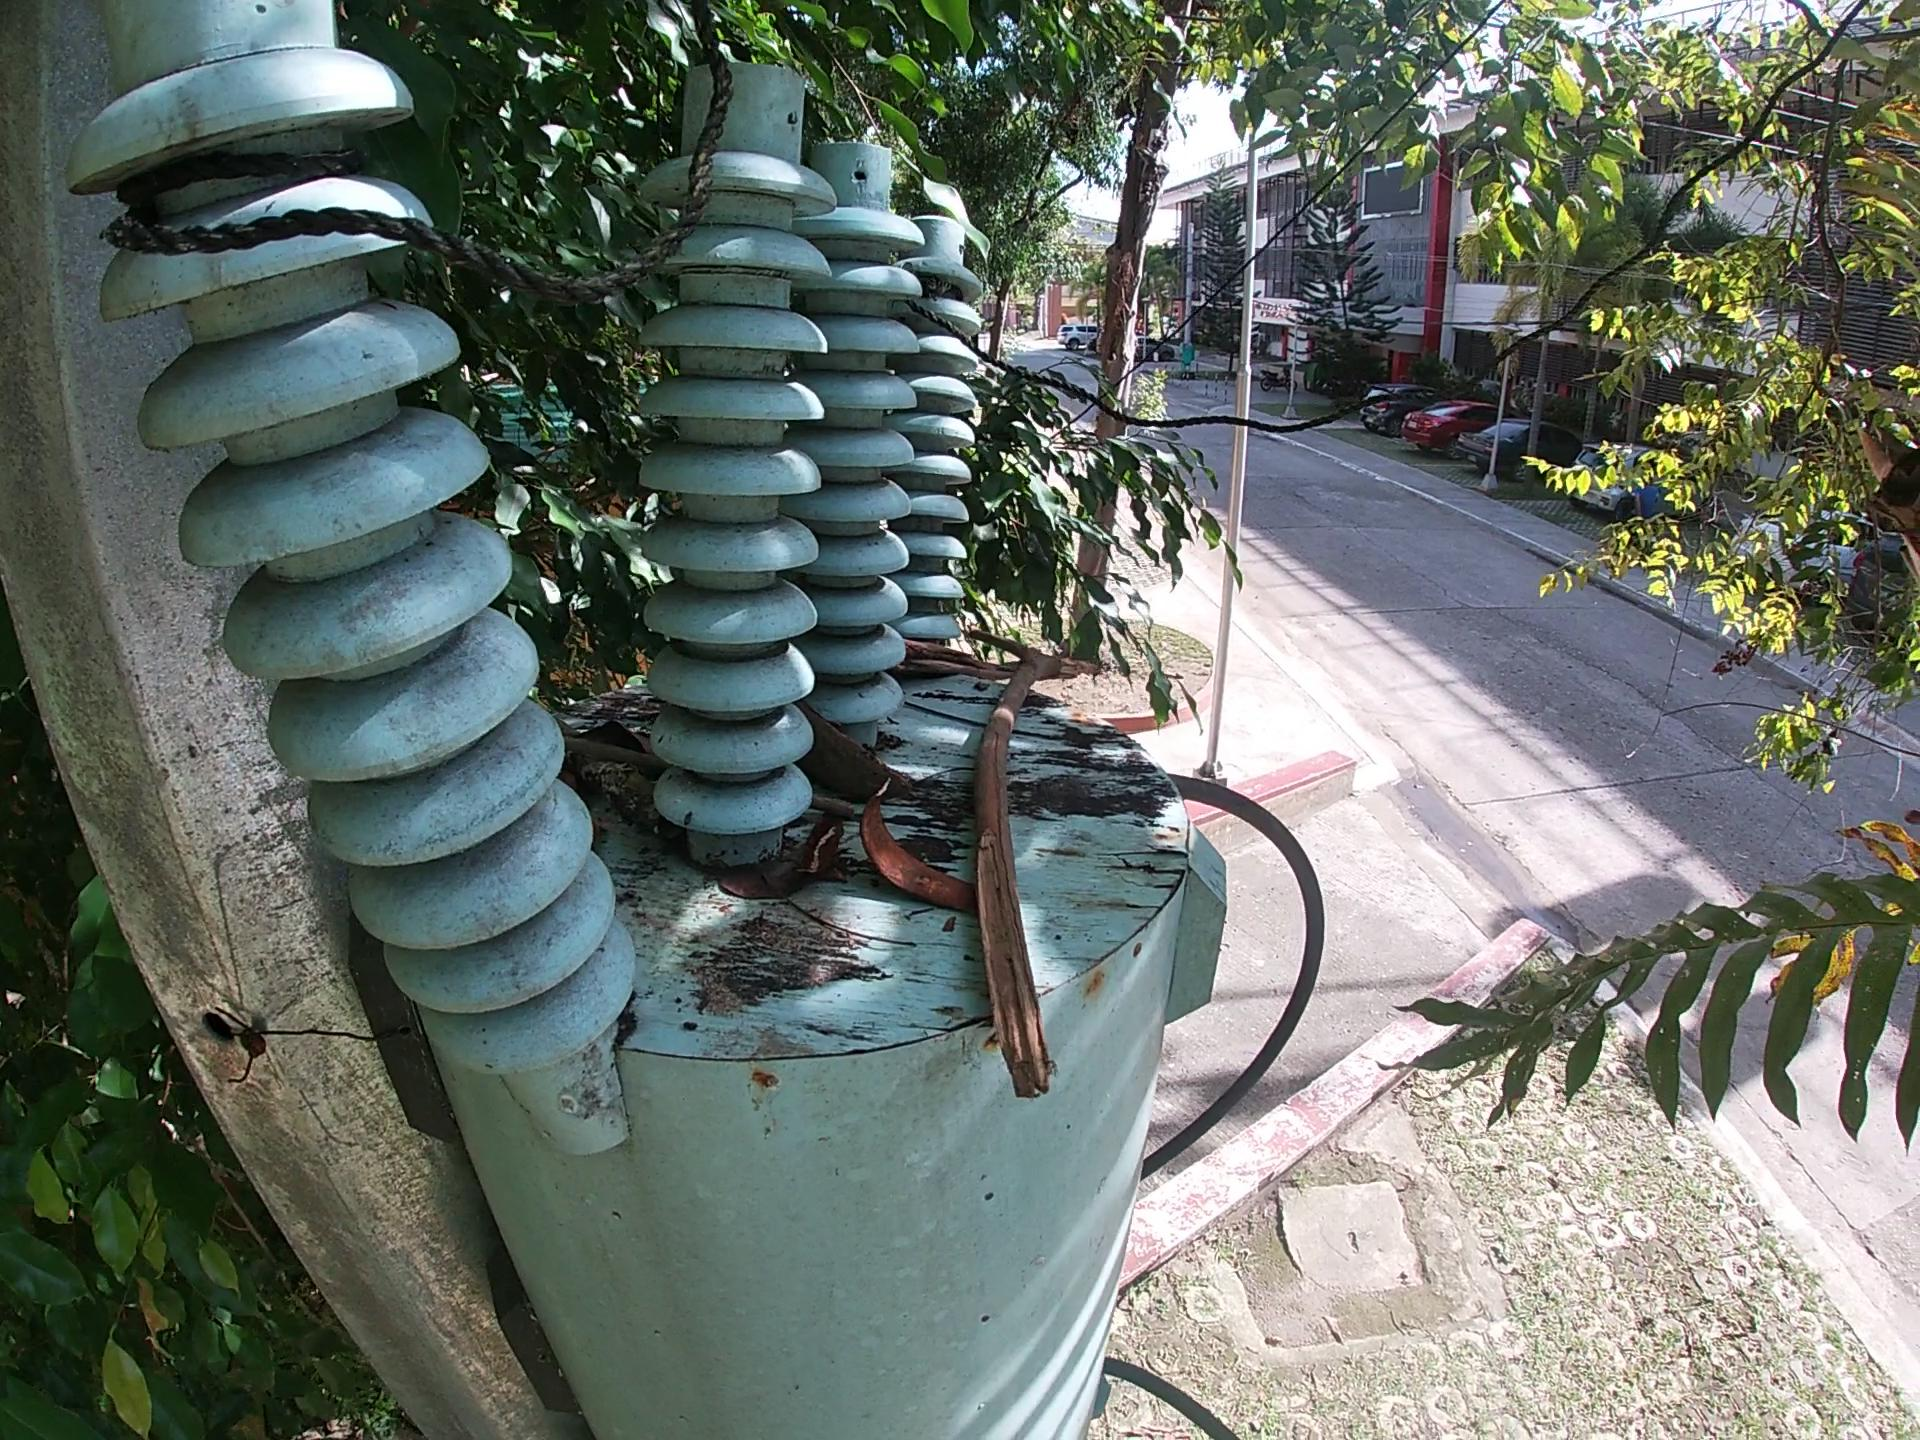leaf: (708, 855, 801, 908)
mahogany fruit: (857, 771, 980, 914), (786, 702, 922, 802), (791, 806, 845, 886)
tree branch: (955, 622, 1107, 1109), (550, 714, 671, 844), (886, 631, 1014, 685), (553, 734, 670, 774), (801, 794, 862, 821)
